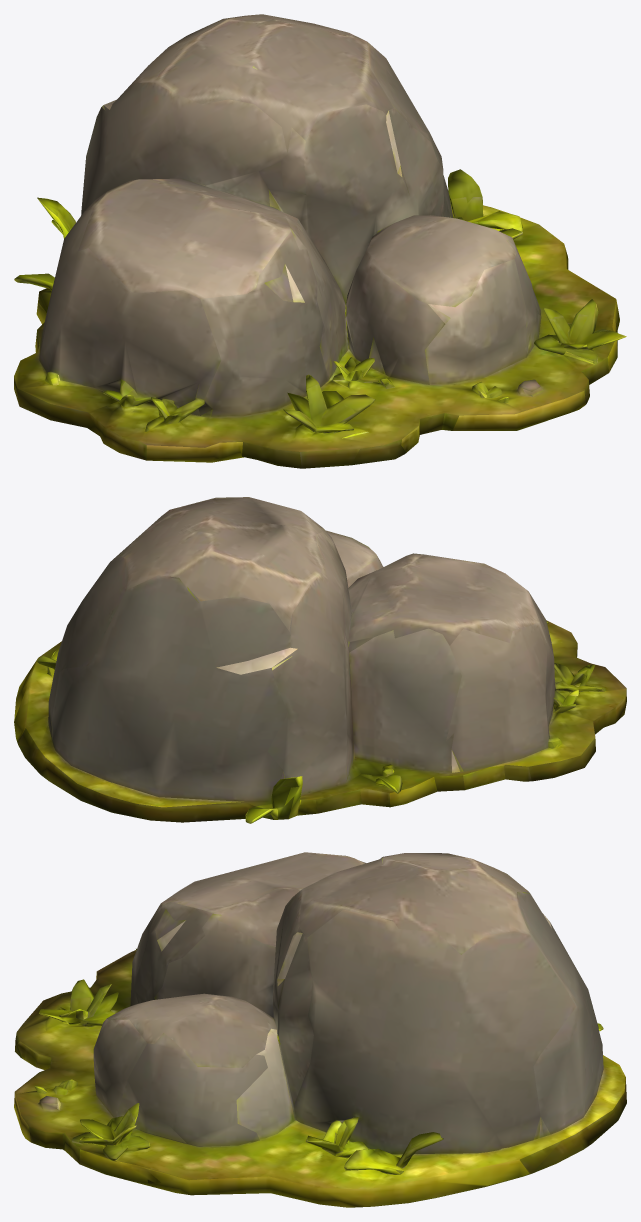
The model's file is rock-three-stones.glb.
3 views of the same model, one above another, from view 1: azimuth 30°, elevation 25°; view 2: azimuth 150°, elevation 25°; view 3: azimuth 270°, elevation 25° (orthographic). The views are drawn at different scales.
Parts seen in each view (by area): view 1: Mesh1.0; view 2: Mesh1.0; view 3: Mesh1.0.
Boxes of the visible parts, left/top/right/bottom form: Mesh1.0: left=14, top=14, right=626, bottom=468; Mesh1.0: left=14, top=497, right=626, bottom=823; Mesh1.0: left=14, top=852, right=626, bottom=1207.
Bounding box in the file's own units: 1.89 × 0.7843 × 1.89.
Materials: 1 (1 with a texture image).
